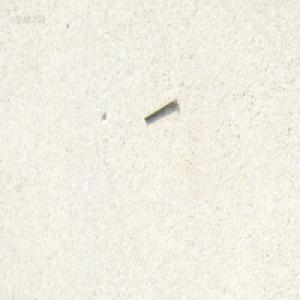Bolt: (143, 94, 176, 121)
